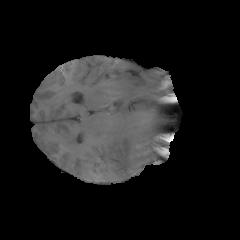glioma: (110, 107, 159, 173)
